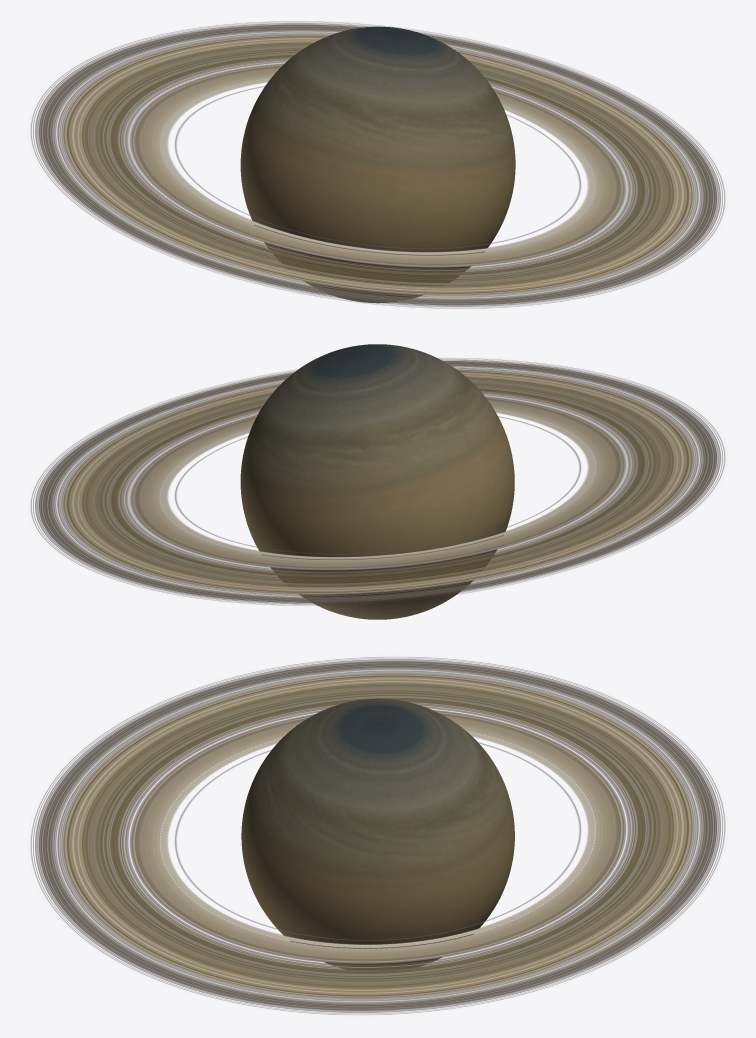
The model's file is saturn.glb.
3 views of the same model, one above another, from view 1: azimuth 30°, elevation 25°; view 2: azimuth 150°, elevation 25°; view 3: azimuth 270°, elevation 25° (orthographic).
Parts seen in each view (by area): view 1: Saturn_Rings, Saturn_Body; view 2: Saturn_Rings, Saturn_Body; view 3: Saturn_Rings, Saturn_Body.
Boxes of the visible parts, left/top/right/bottom form: Saturn_Rings: left=30, top=21, right=725, bottom=308; Saturn_Body: left=240, top=26, right=515, bottom=303; Saturn_Rings: left=30, top=358, right=725, bottom=605; Saturn_Body: left=240, top=344, right=514, bottom=619; Saturn_Rings: left=30, top=657, right=725, bottom=1014; Saturn_Body: left=241, top=698, right=514, bottom=969.
Size of the model in its own units: 5.23 by 1.99 by 5.25.
2 materials, 2 textured.
